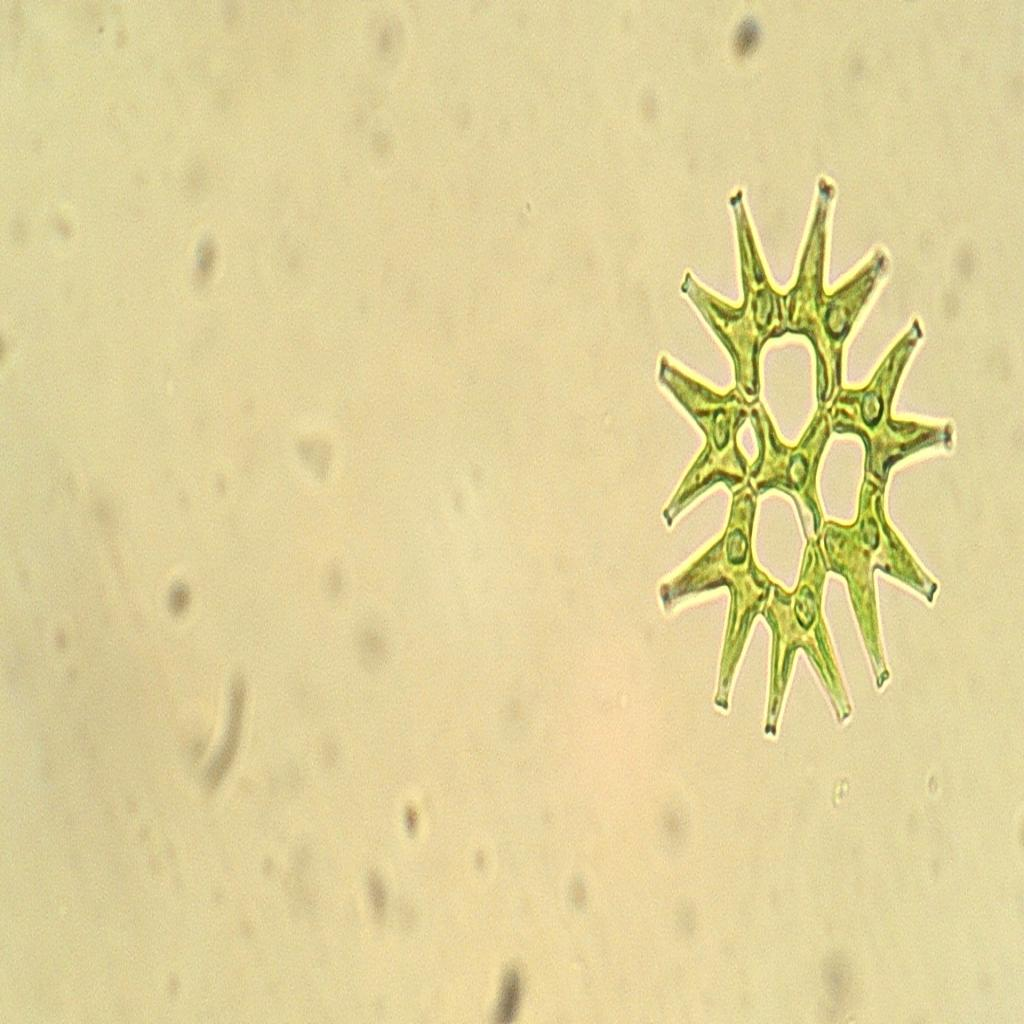Pediastrum_75T: (640, 137, 958, 762)
